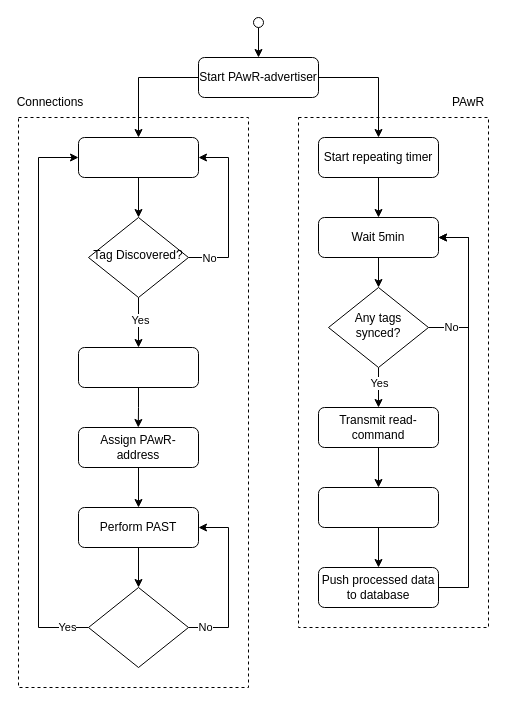
Some shapes in this 516 by 705 pixel diagram are drawn without their labels. The box of each missing label's shape, as (x1, y1, x2, y2) in pixels:
Connection closed?: (88, 586, 188, 668)
Open connection: (78, 346, 198, 388)
Receive sensor data: (318, 486, 438, 528)
Scan for Tags: (78, 136, 198, 178)
